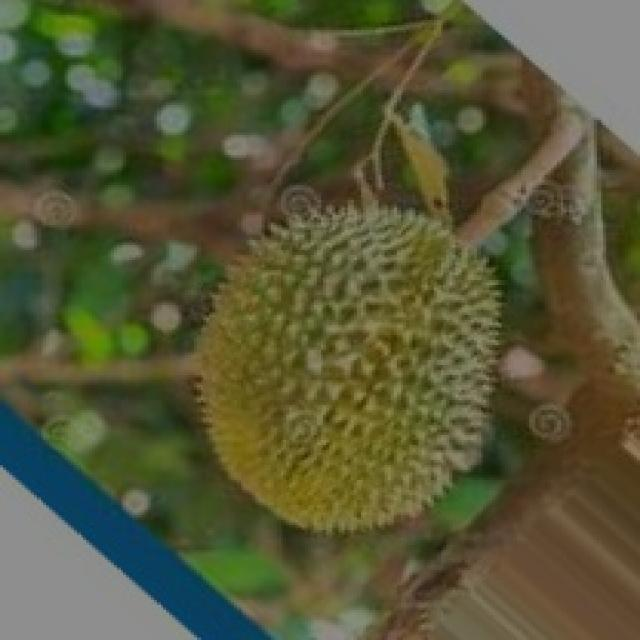fruit: (138, 173, 548, 595)
